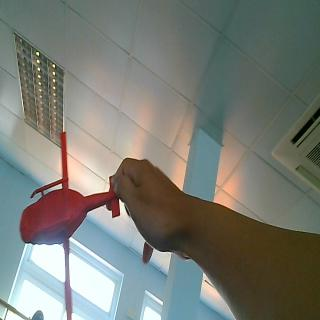Helicopter: (19, 129, 121, 320)
